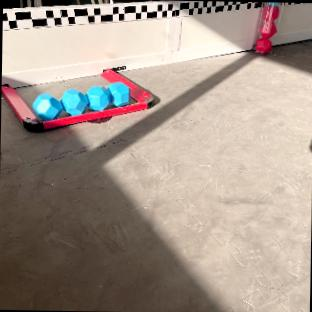Parking-R: (1, 67, 153, 128)
V5_BLUE: (33, 94, 61, 118), (61, 90, 87, 115), (85, 86, 109, 110), (108, 81, 129, 106)
V5_RED: (255, 37, 270, 52)
